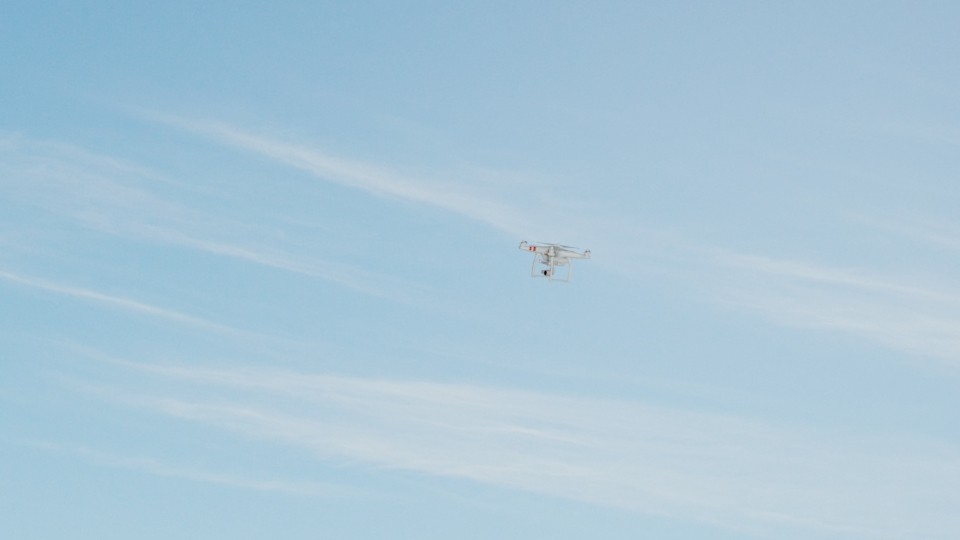drone: (513, 237, 588, 287)
